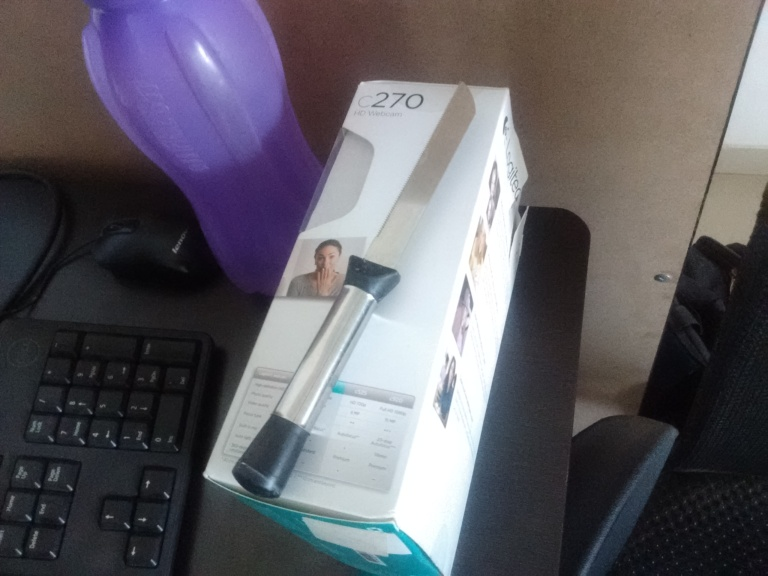knife: (226, 81, 479, 502)
